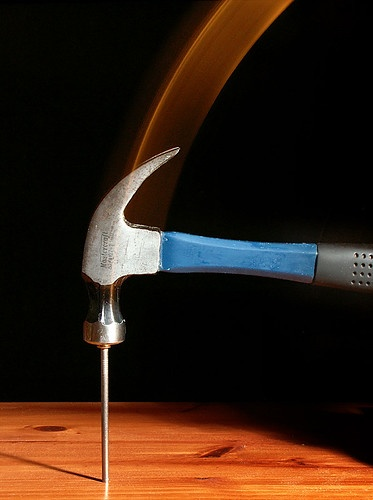hammer: (78, 148, 373, 348)
